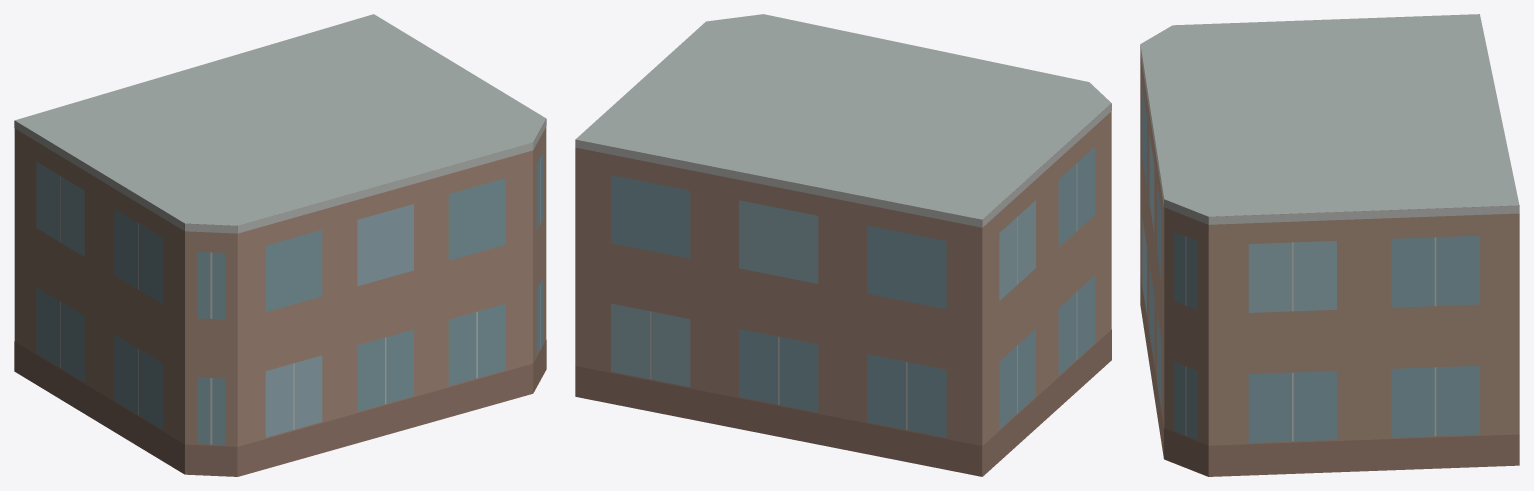
The model's file is survey-upis-32748727.glb.
3 views of the same model, side by side, from view 1: azimuth 30°, elevation 25°; view 2: azimuth 150°, elevation 25°; view 3: azimuth 270°, elevation 25° (orthographic). The views are drawn at different scales.
Visible parts, largest first — view 1: survey-upis-32748727.tmp; view 2: survey-upis-32748727.tmp; view 3: survey-upis-32748727.tmp.
Boxes of the visible parts, x1,y1,x2,y2 form: survey-upis-32748727.tmp: (14,14,546,476); survey-upis-32748727.tmp: (575,14,1111,476); survey-upis-32748727.tmp: (1140,14,1519,476).
Size of the model in its own units: 13.13 by 7.85 by 10.38.
